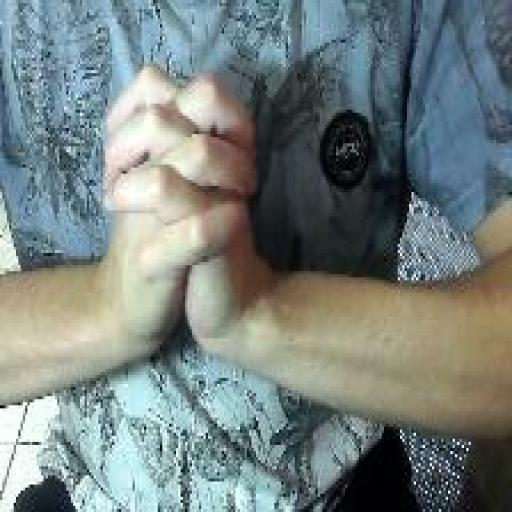Mi -snake-: (98, 60, 263, 370)
